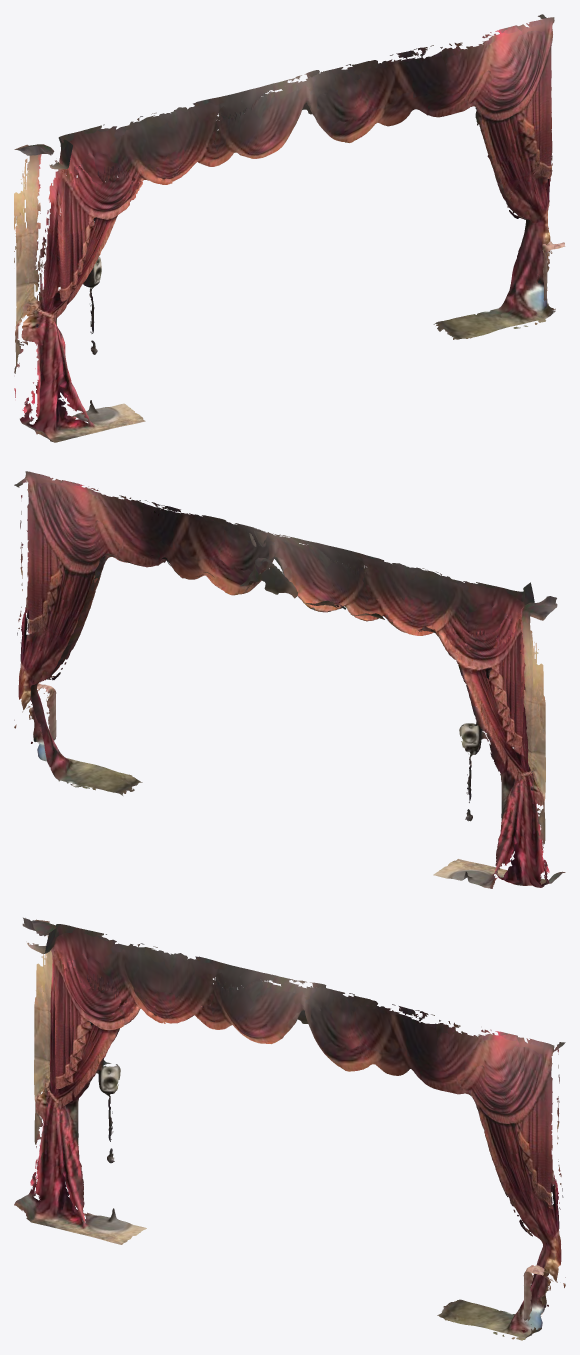
File: StageCurtain.glb
3 renders of one model, top to bottom at view 1: azimuth 30°, elevation 25°; view 2: azimuth 150°, elevation 25°; view 3: azimuth 330°, elevation 25°, orthographic.
Parts seen in each view (by area): view 1: Object_2; view 2: Object_2; view 3: Object_2.
Boxes of the visible parts, box(x1,y1,x2,y2) form: Object_2: box(14, 14, 565, 442); Object_2: box(14, 471, 565, 888); Object_2: box(14, 917, 565, 1340).
Bounding box in the file's own units: 6.06 × 3.22 × 0.463.
Materials: 1 (1 with a texture image).
